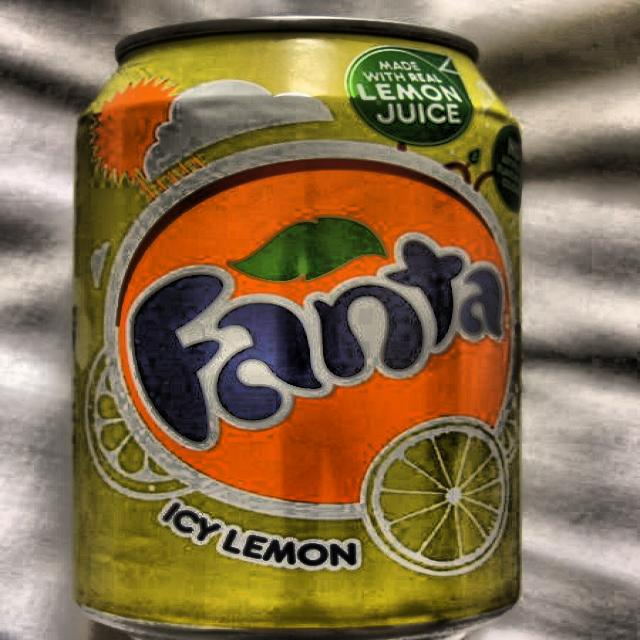Cans: (52, 0, 555, 640)
